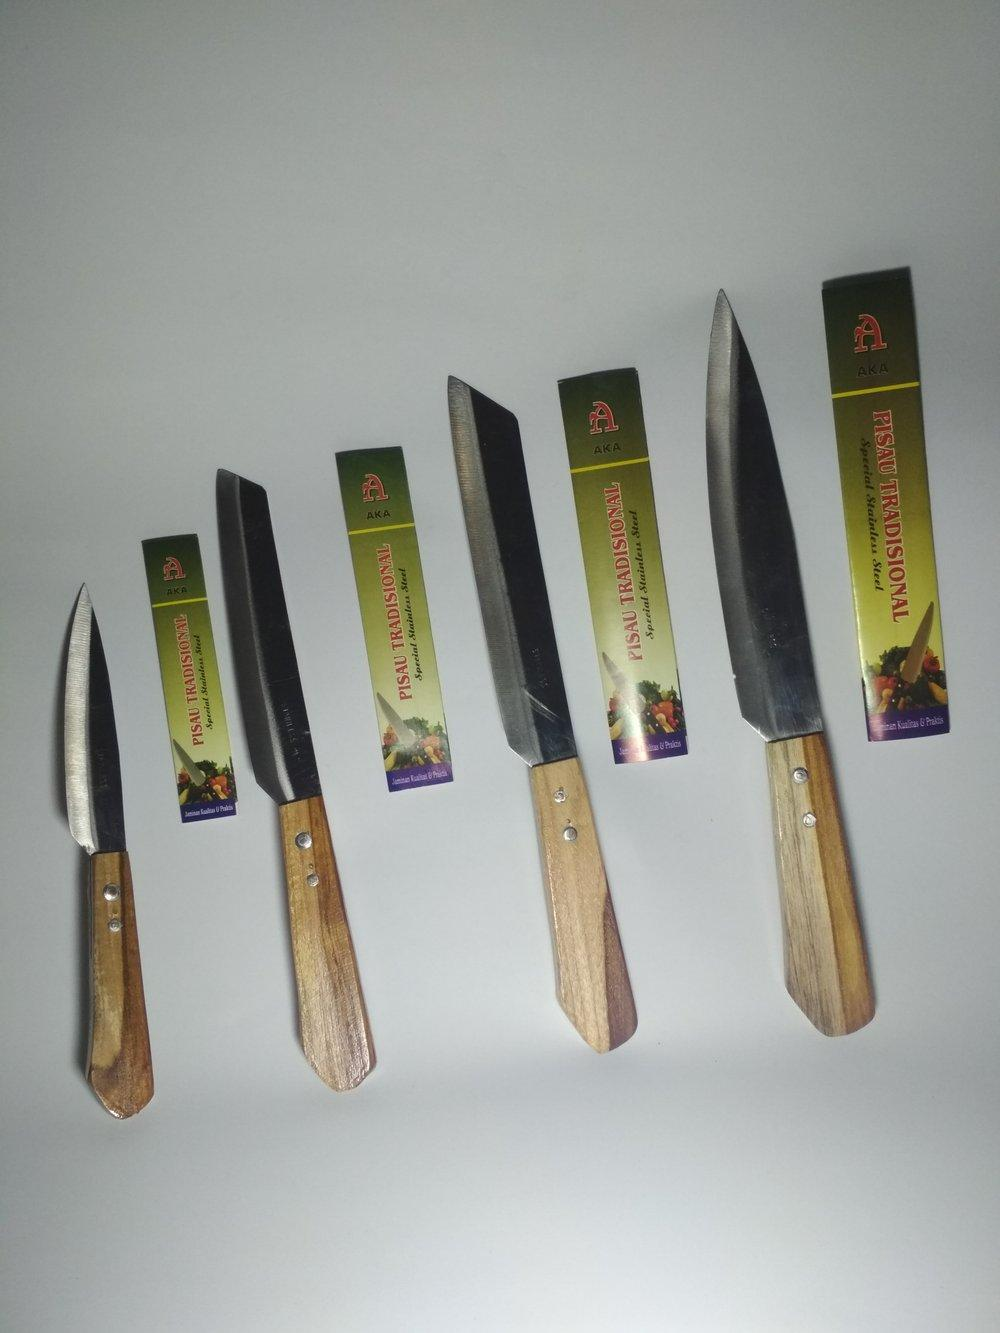faca: (447, 376, 636, 1053), (706, 291, 876, 1037), (216, 468, 376, 1091), (60, 585, 154, 1119)
